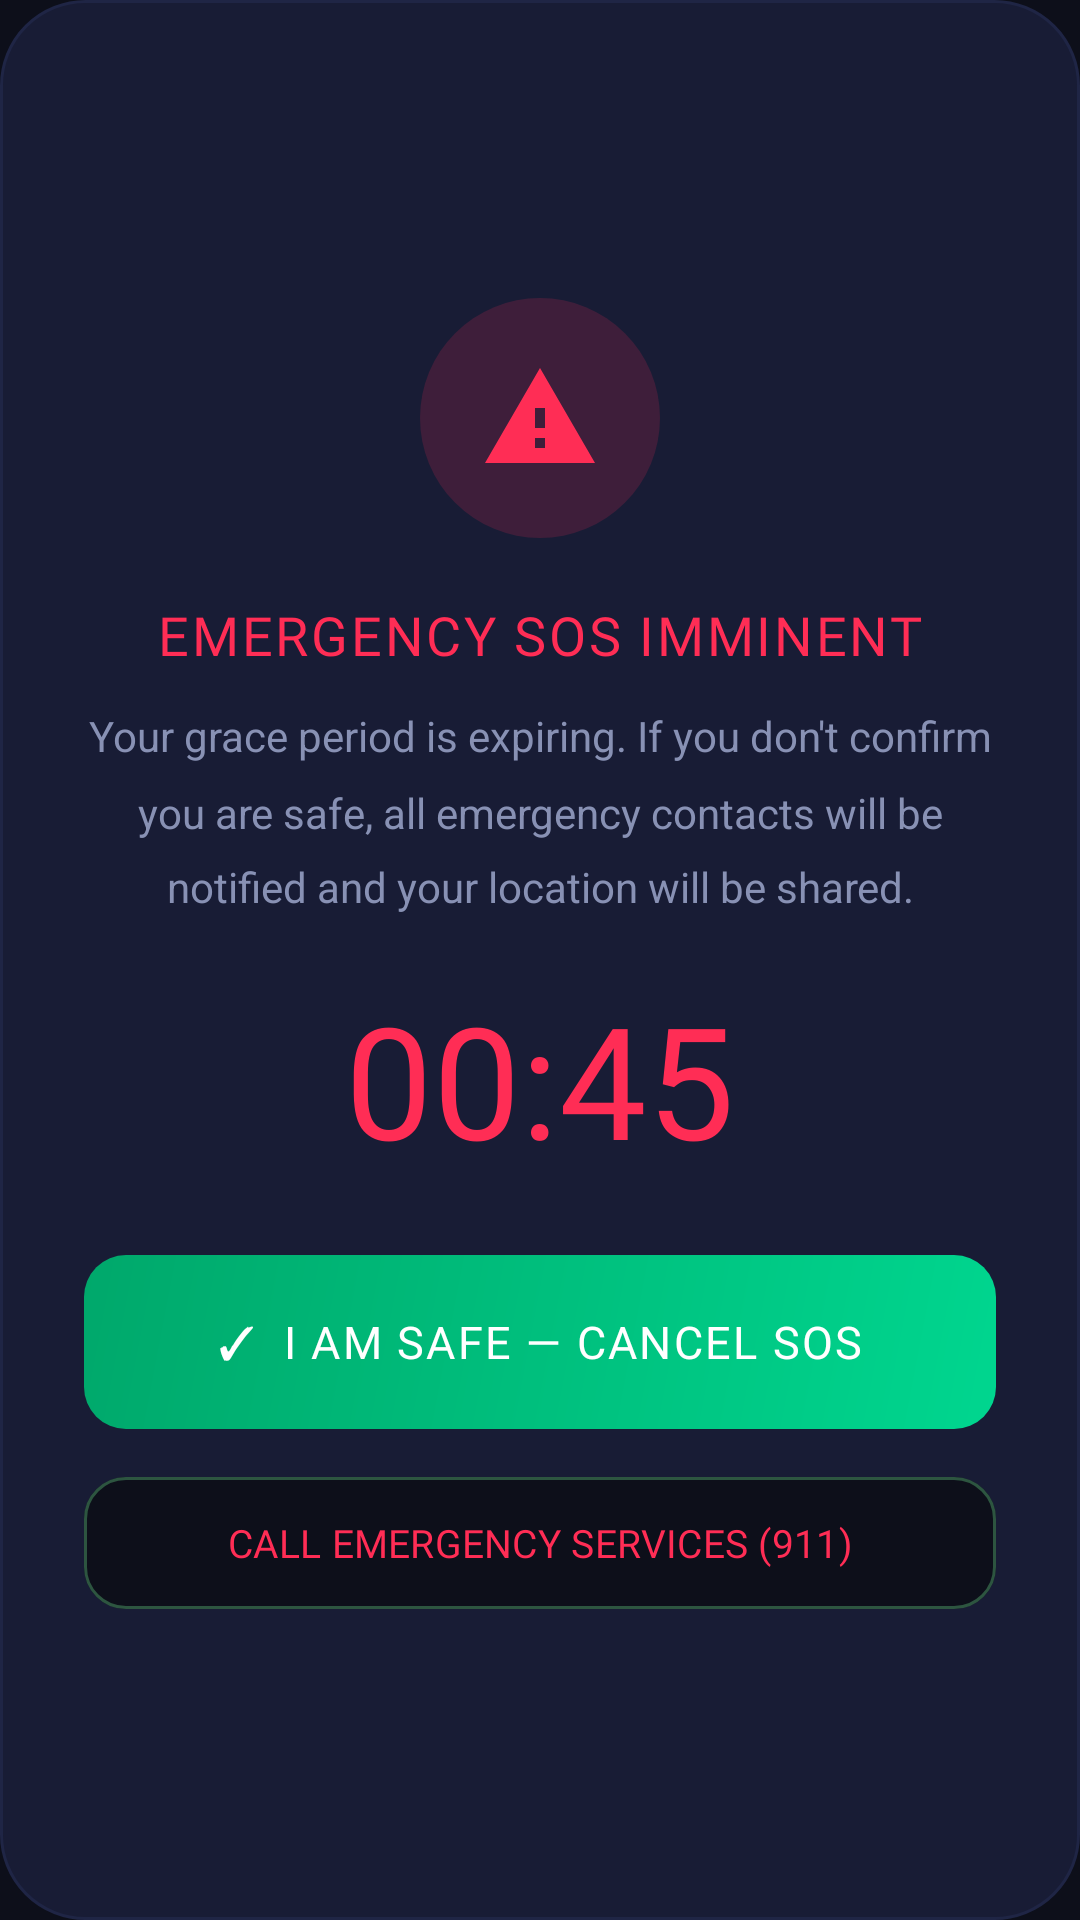

Screen size 1080px×1920px. Icon name, then its center in pixels as [x,y]:
sos alert: [540,415]
